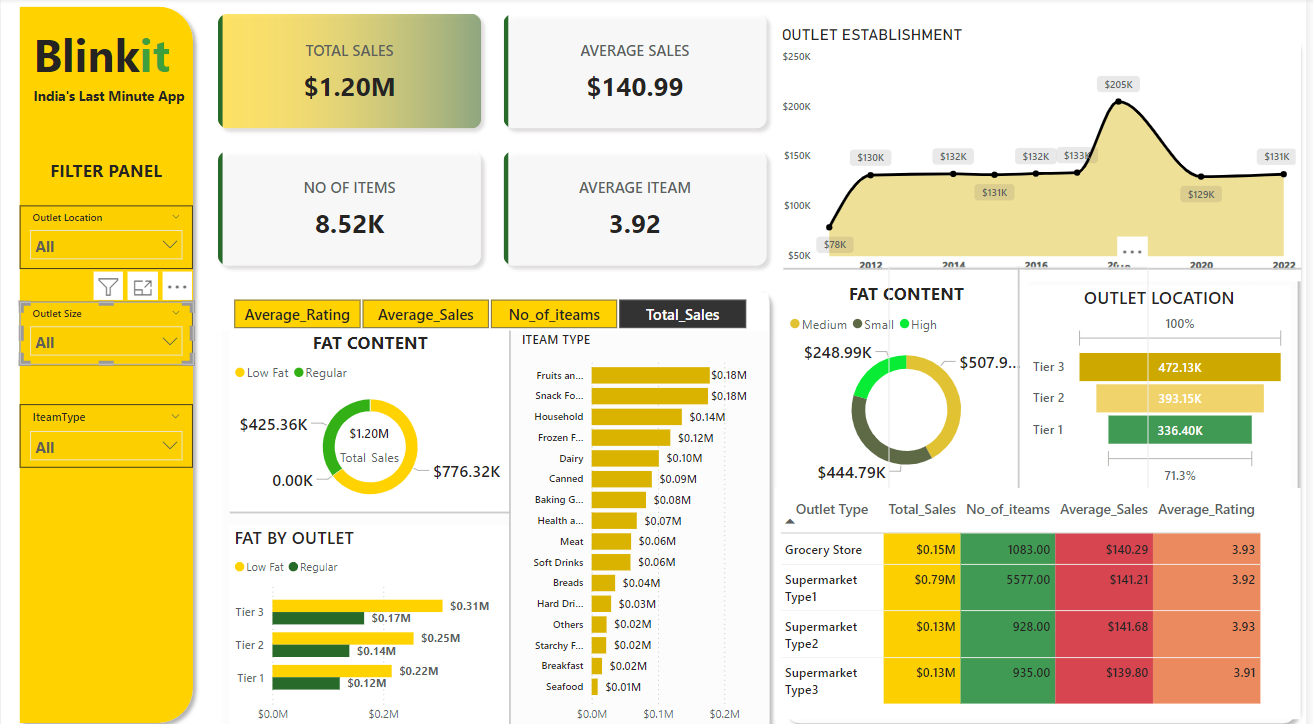

The dashboard page shown, as its layout file describes it:
{"tool":"powerbi","page":{"name":"Page 1","canvas":[1400,800],"ordinal":0},"visuals":[{"type":"shape","box":[10.5,0,204.1,786.5],"z":0},{"type":"textbox","box":[30,22.5,166.6,79.5],"z":1000},{"type":"textbox","box":[30,90.1,220.6,54],"z":2000},{"type":"cardVisual","fields":{"Data":["BlinkIT Grocery Data.Total_Sales","BlinkIT Grocery Data.Average_Sales","BlinkIT Grocery Data.No_of_iteams","BlinkIT Grocery Data.Average_Rating"]},"box":[216.1,0,622.9,304.7],"z":3000},{"type":"shape","box":[223.6,304.7,609.4,495.3],"z":4000},{"type":"donutChart","title":"FAT CONTENT","fields":{"Y":["BlinkIT Grocery Data.Total_Sales","BlinkIT Grocery Data.Average_Rating"],"Category":["BlinkIT Grocery Data.Item Fat Content"]},"box":[244.6,357.2,301.7,195.1],"z":5000},{"type":"slicer","fields":{"Values":["Matrics.Matrics"]},"box":[223.6,316.7,598.8,40.5],"z":6000},{"type":"card","title":"TOTAL SALES","fields":{"Values":["BlinkIT Grocery Data.Total_Sales"]},"box":[352.7,454.8,85.5,48],"z":7000},{"type":"clusteredBarChart","title":"FAT BY OUTLET","fields":{"Y":["BlinkIT Grocery Data.Total_Sales"],"Category":["BlinkIT Grocery Data.Outlet Location Type"],"Series":["BlinkIT Grocery Data.Item Fat Content"]},"box":[244.6,565.8,301.7,220.6],"z":8000},{"type":"shape","box":[244.6,525.3,301.7,52.5],"z":9000},{"type":"shape","box":[406.7,357.2,279.2,429.2],"z":10000},{"type":"barChart","title":"ITEAM TYPE","fields":{"Y":["BlinkIT Grocery Data.Total_Sales"],"Category":["BlinkIT Grocery Data.Item Type"]},"box":[553.8,357.2,268.7,429.2],"z":11000},{"type":"shape","box":[832.4,29.5,567,757.4],"z":12000},{"type":"lineChart","title":"OUTLET ESTABLISHMENT","fields":{"Category":["BlinkIT Grocery Data.Outlet Establishment Year"],"Y":["BlinkIT Grocery Data.Total_Sales"]},"box":[833,30,561.3,274.7],"z":13000},{"type":"shape","box":[839,264.2,555.3,52.5],"z":14000},{"type":"donutChart","title":"FAT CONTENT","fields":{"Category":["BlinkIT Grocery Data.Outlet Size"],"Y":["BlinkIT Grocery Data.Total_Sales"]},"box":[840.5,304.7,261.2,220.6],"z":15000},{"type":"funnel","title":"OUTLET LOCATION","fields":{"Y":["Sum(BlinkIT Grocery Data.Sales)"],"Category":["BlinkIT Grocery Data.Outlet Location Type"]},"box":[1101.6,307.7,280.7,217.6],"z":16000},{"type":"shape","box":[951.5,288.2,279.2,249.1],"z":17000},{"type":"tableEx","fields":{"Values":["BlinkIT Grocery Data.Outlet Type","BlinkIT Grocery Data.Total_Sales","BlinkIT Grocery Data.No_of_iteams","BlinkIT Grocery Data.Average_Sales","BlinkIT Grocery Data.Average_Rating"]},"box":[829.8,525.5,564.3,248],"z":18000},{"type":"slicer","fields":{"Values":["BlinkIT Grocery Data.Outlet Location Type"]},"box":[20.6,222.1,185.3,67.7],"z":19000},{"type":"slicer","fields":{"Values":["BlinkIT Grocery Data.Outlet Size"]},"box":[20.6,325.1,185.3,67.7],"z":20000},{"type":"slicer","fields":{"Values":["BlinkIT Grocery Data.Item Type"]},"box":[20.6,435.4,185.3,67.7],"z":21000},{"type":"textbox","box":[20.6,167.7,185.3,45.6],"z":22000}]}

Visuals, with their boxes on the page's 1400x800 design canvas (x1, y1, x2, y2). These are canvas units, not pixel positions in the 1313x724 screenshot, which may show the page scaled, cropped or inside an application window:
shape: 10,0,215,786
textbox: 30,22,197,102
textbox: 30,90,251,144
cardVisual - BlinkIT Grocery Data.Total_Sales x BlinkIT Grocery Data.Average_Sales: 216,0,839,305
shape: 224,305,833,800
"FAT CONTENT" donutChart: 245,357,546,552
slicer - Matrics.Matrics: 224,317,822,357
"TOTAL SALES" card: 353,455,438,503
"FAT BY OUTLET" clusteredBarChart: 245,566,546,786
shape: 245,525,546,578
shape: 407,357,686,786
"ITEAM TYPE" barChart: 554,357,822,786
shape: 832,30,1399,787
"OUTLET ESTABLISHMENT" lineChart: 833,30,1394,305
shape: 839,264,1394,317
"FAT CONTENT" donutChart: 840,305,1102,525
"OUTLET LOCATION" funnel: 1102,308,1382,525
shape: 952,288,1231,537
tableEx - BlinkIT Grocery Data.Outlet Type x BlinkIT Grocery Data.Total_Sales: 830,526,1394,774
slicer - BlinkIT Grocery Data.Outlet Location Type: 21,222,206,290
slicer - BlinkIT Grocery Data.Outlet Size: 21,325,206,393
slicer - BlinkIT Grocery Data.Item Type: 21,435,206,503
textbox: 21,168,206,213
